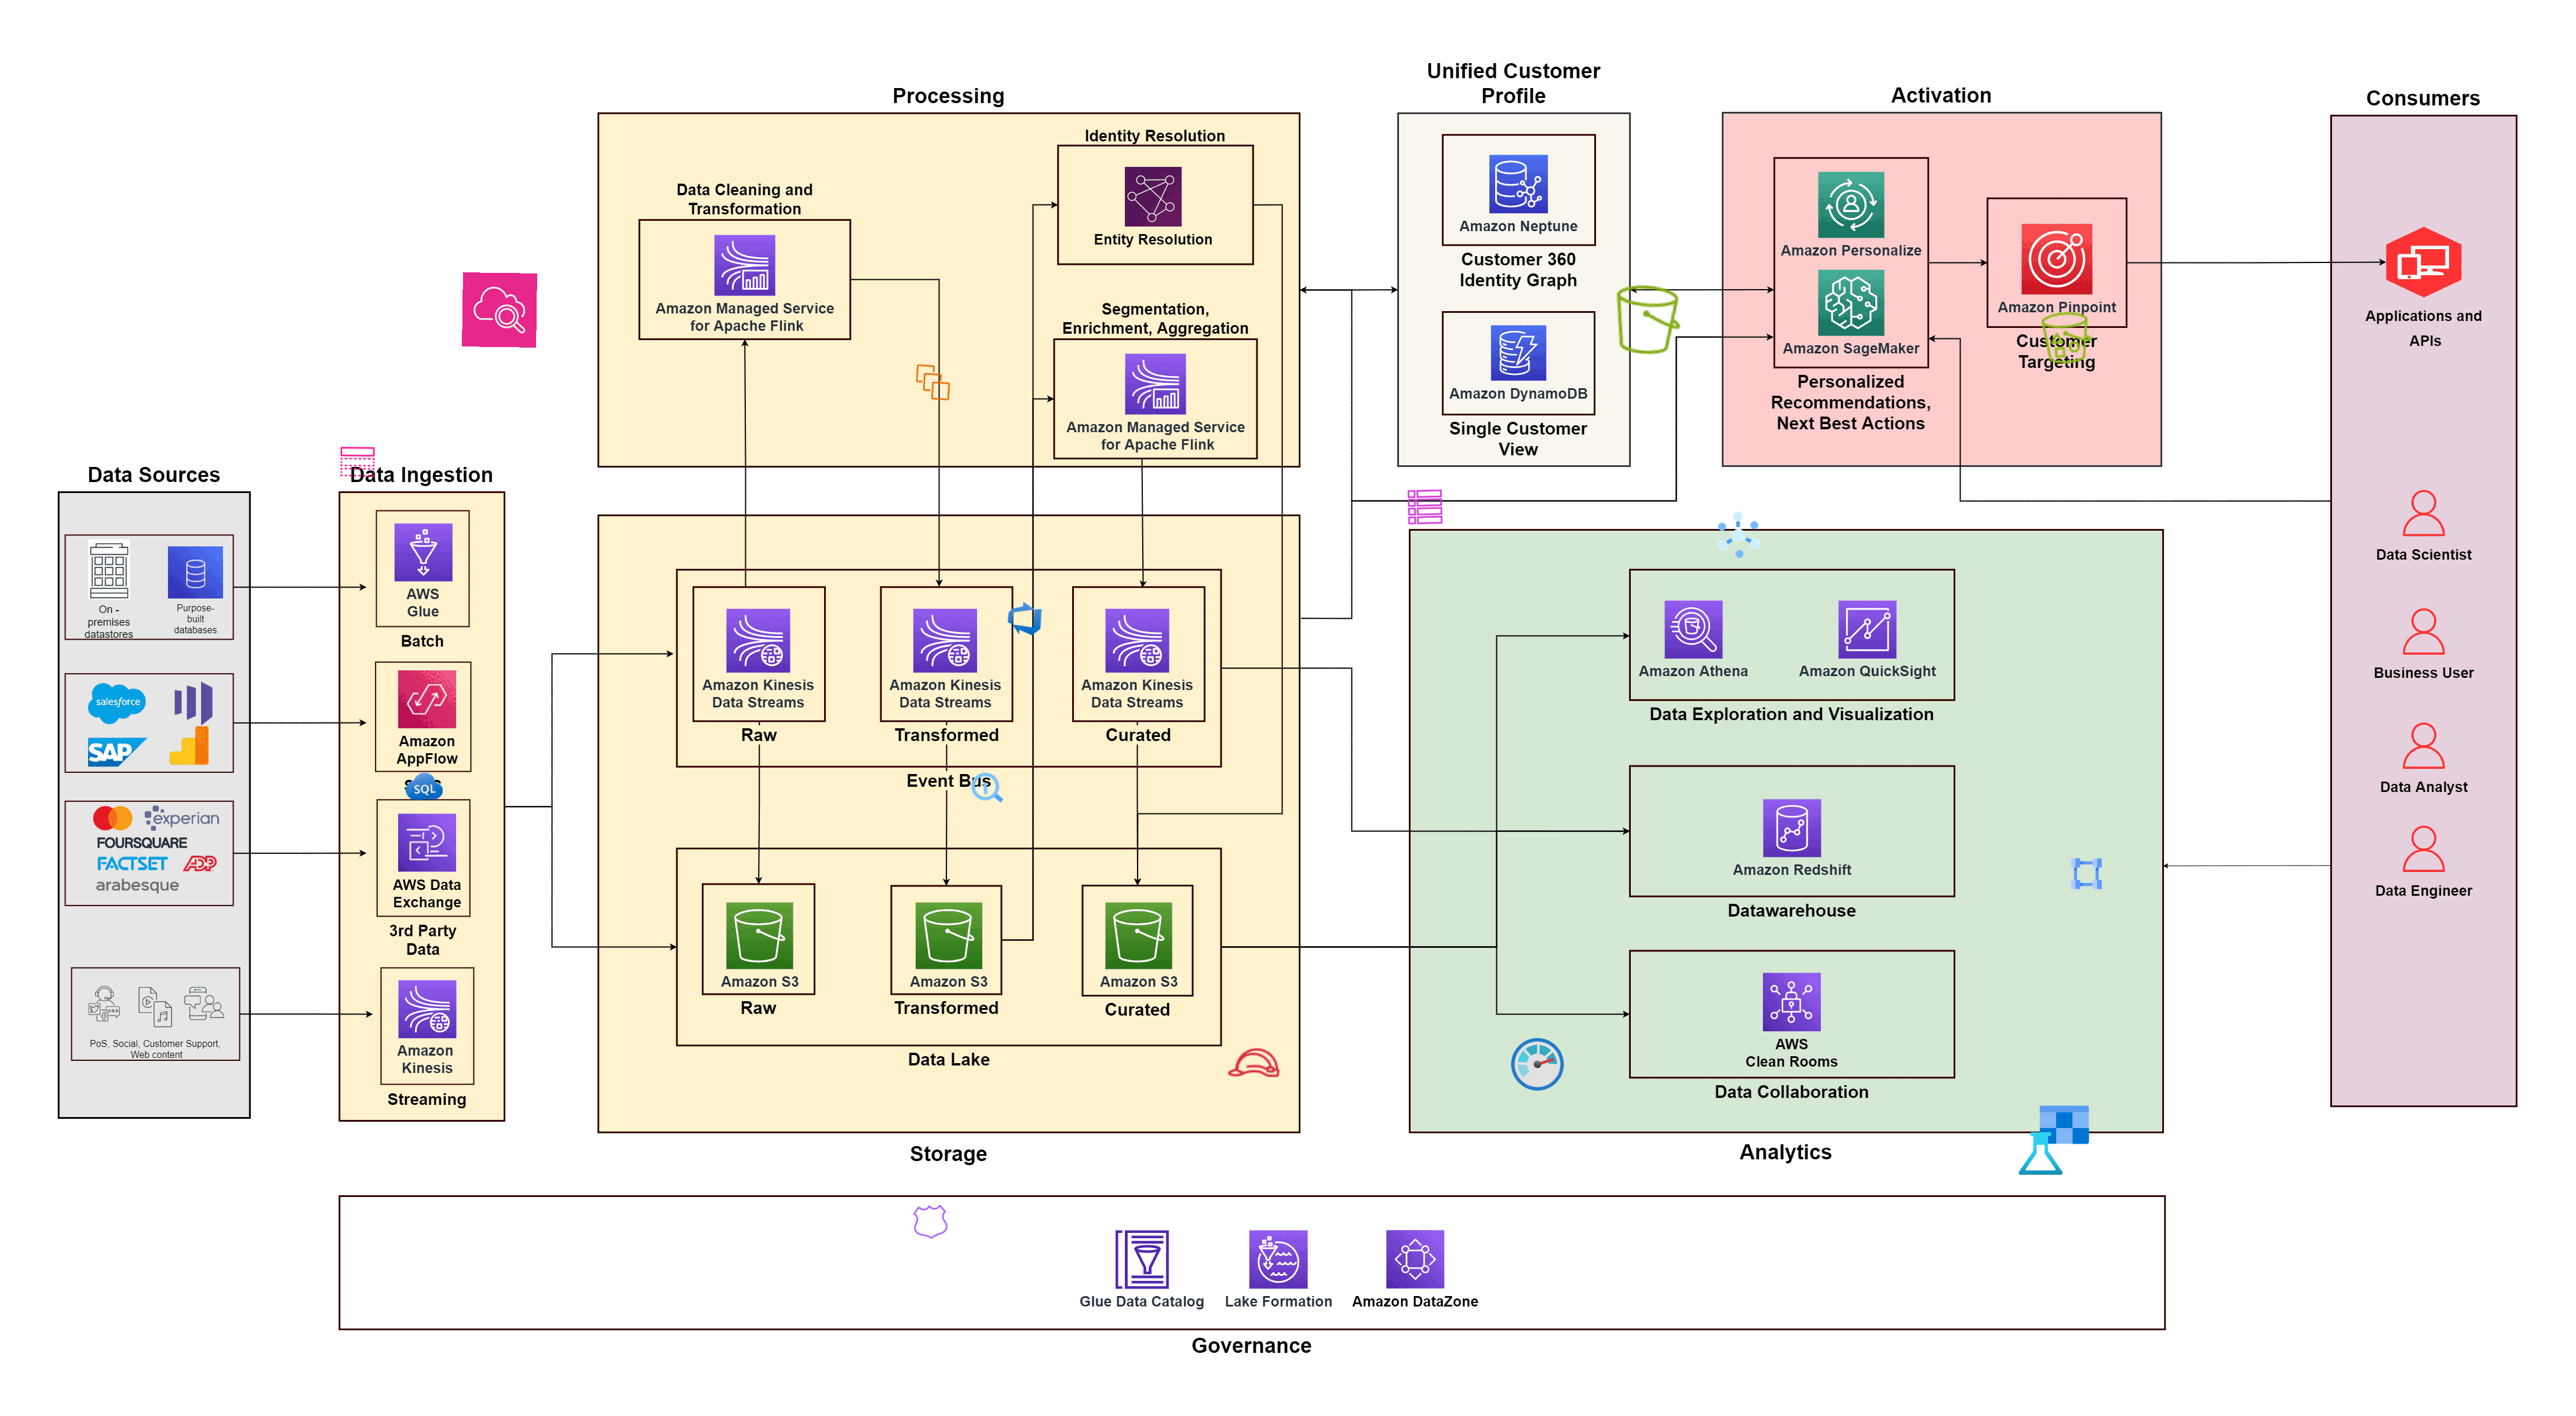aws_amazon_cloudwatch: (462, 272, 537, 347)
aws_dynamodb_table: (1406, 488, 1444, 527)
aws_ec2_instances: (914, 363, 952, 403)
aws_identity_access_management_role: (1224, 1034, 1284, 1093)
aws_route_53_hosted_zone: (910, 1202, 951, 1242)
aws_simple_notification_service_topic: (338, 443, 377, 481)
aws_simple_storage_service_bucket: (1608, 279, 1688, 359)
aws_simple_storage_service_bucket_with_objects: (2037, 307, 2098, 368)
azure_devops: (1005, 598, 1045, 638)
azure_machine_learning_studio_workspaces: (2016, 1102, 2091, 1177)
azure_monitor: (1509, 1034, 1566, 1093)
azure_sql: (405, 767, 445, 806)
gcp_bigquery: (966, 767, 1008, 807)
gcp_pubsub: (1709, 506, 1768, 565)
gcp_virtual_private_cloud: (2067, 854, 2105, 893)
